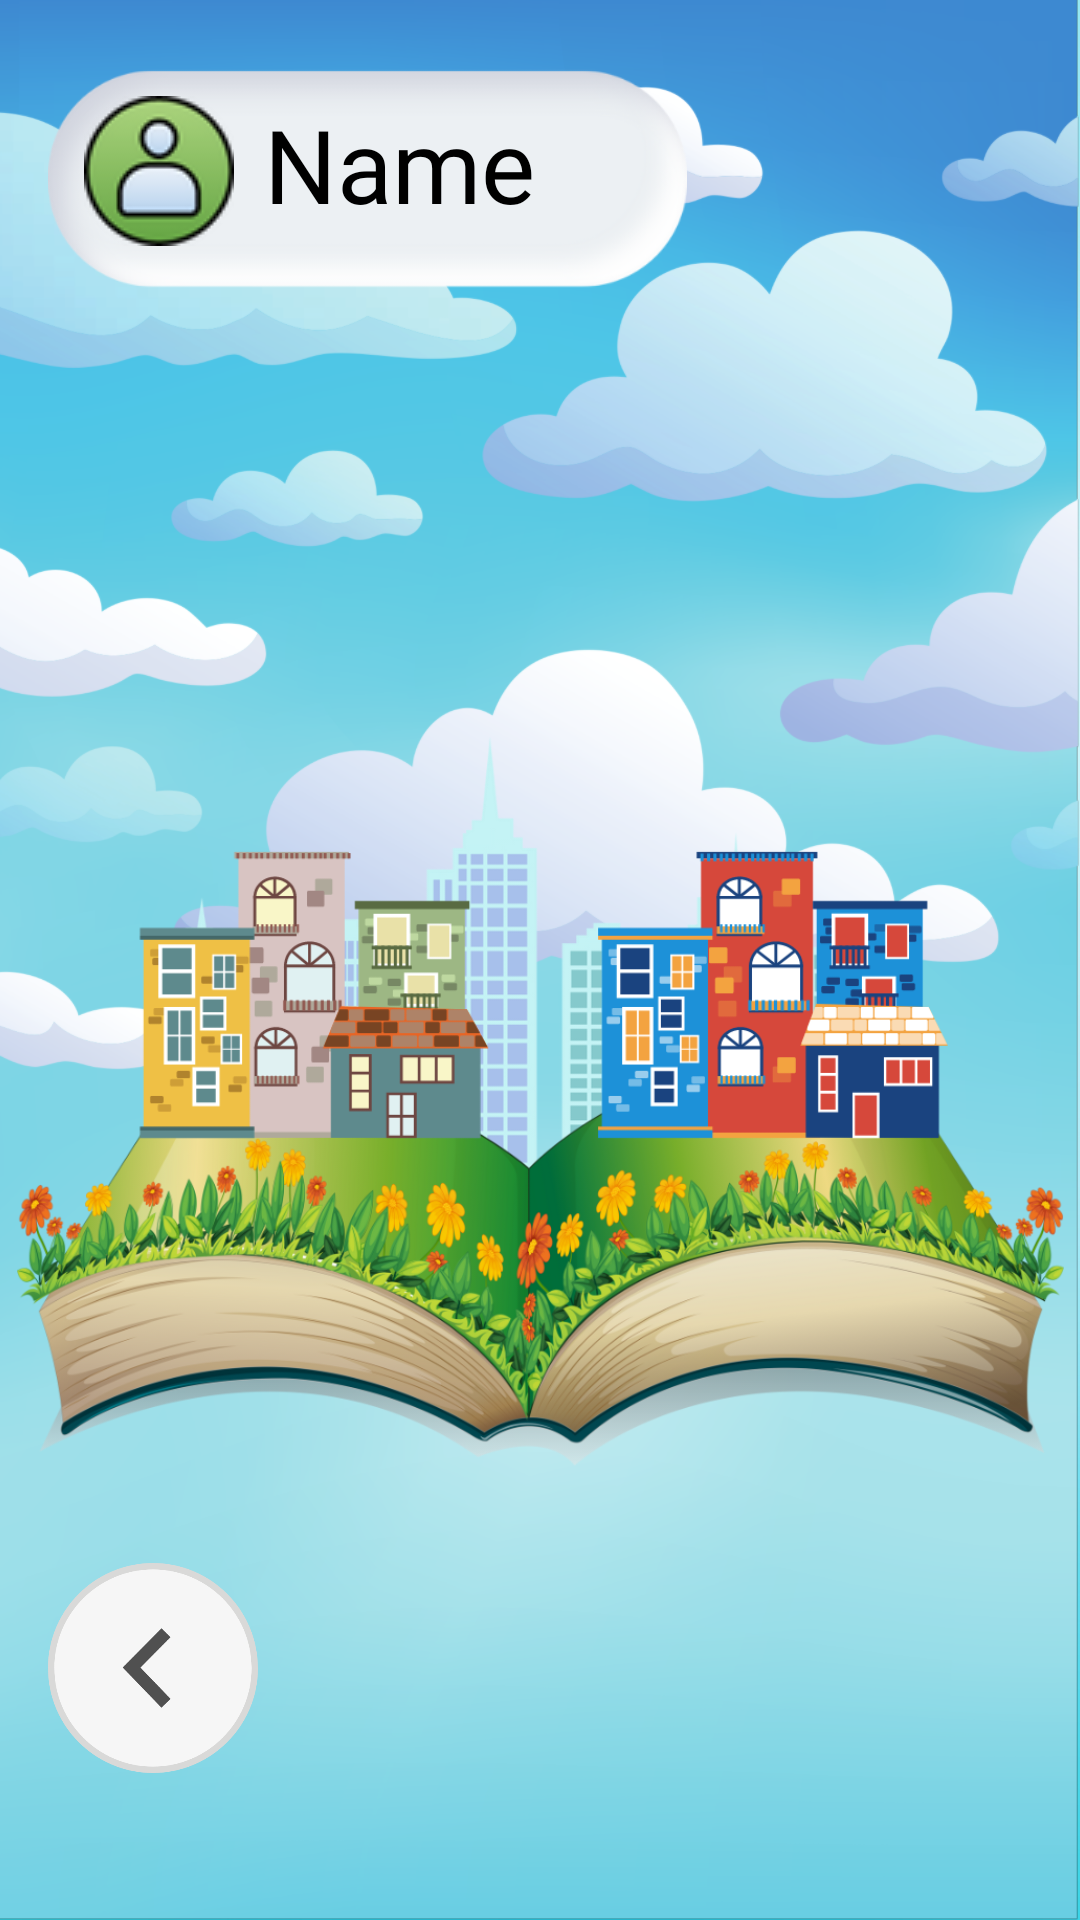

Named icons in this screenshot (1080*1920) and their centers, (x,y):
left: (153,1668)
